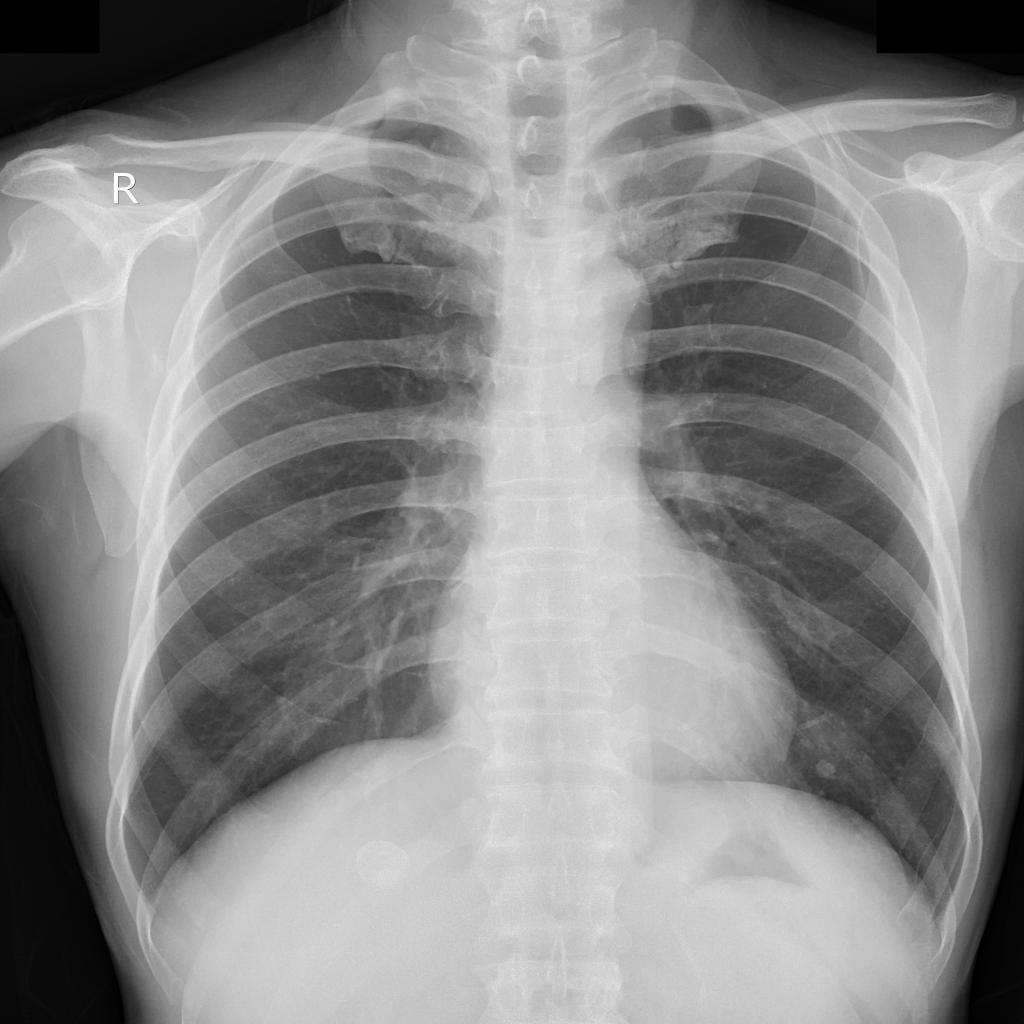Nodule: (814, 760, 840, 782)
